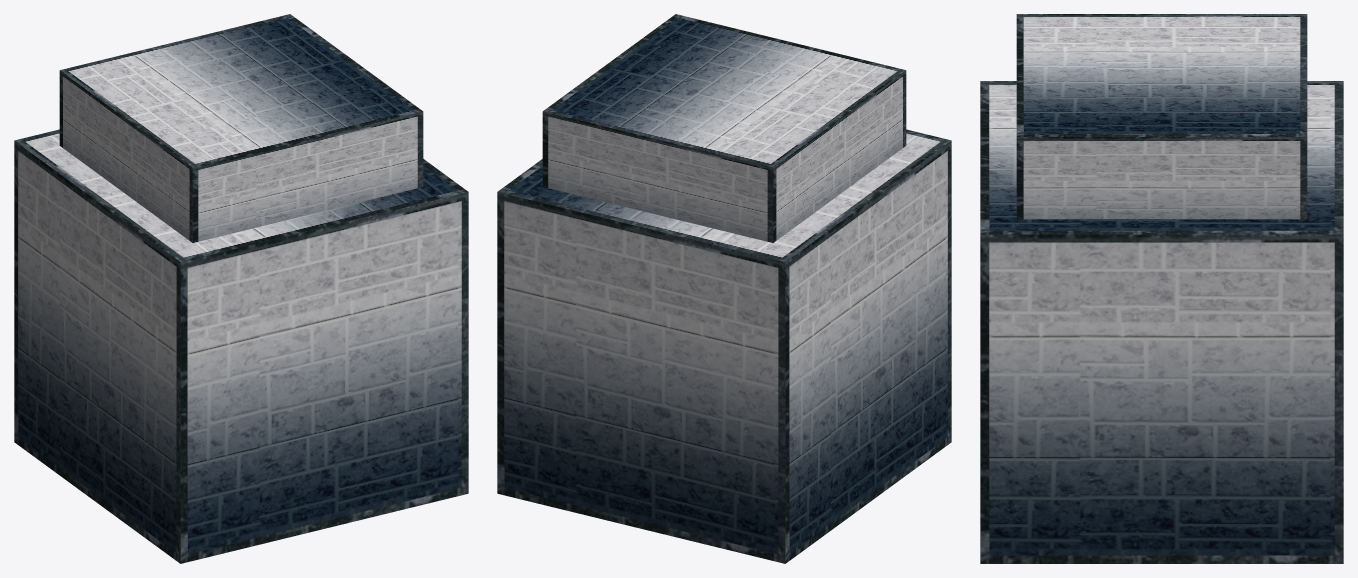
Rendered from Table.obj.
The picture shows the model from 3 angles, left to right: view 1: azimuth 30°, elevation 25°; view 2: azimuth 150°, elevation 25°; view 3: azimuth 270°, elevation 25°; orthographic projection. The views are drawn at different scales.
Visible parts, largest first — view 1: Cube, Cube.001; view 2: Cube, Cube.001; view 3: Cube, Cube.001.
Boxes of the visible parts, x1,y1,x2,y2 form: Cube: [14, 129, 468, 563]; Cube.001: [59, 14, 423, 242]; Cube: [497, 129, 951, 563]; Cube.001: [542, 14, 906, 242]; Cube: [980, 81, 1343, 563]; Cube.001: [1016, 14, 1307, 219].
Size of the model in its own units: 1 by 1.25 by 1.
2 materials, 2 textured.
